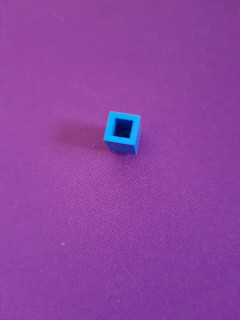1x1 blue: (101, 108, 146, 159)
